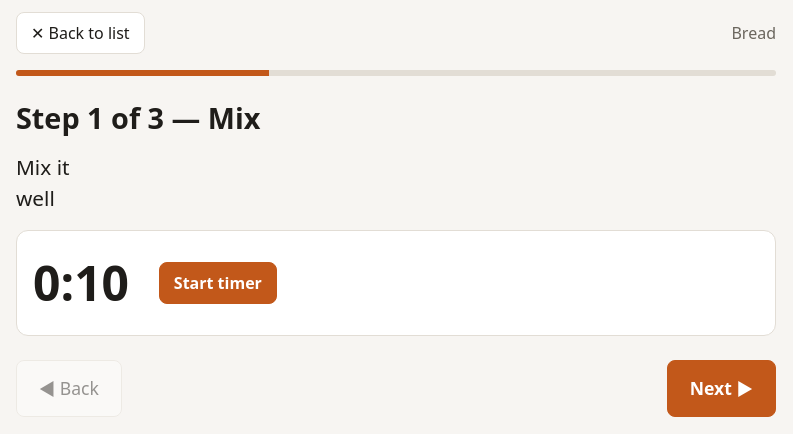
Test case: Next stops current timer and auto-starts next
Click the button "Start timer" at (218, 283), box [159,262,277,304]
Wait 3000 ms
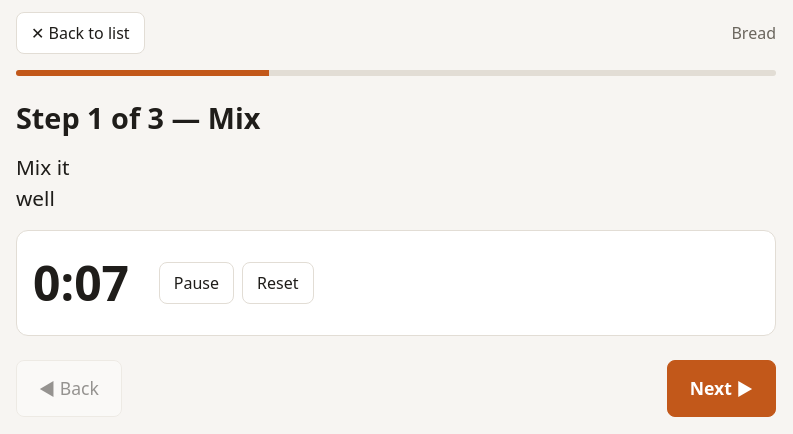
Click the button "Next ▶" at (721, 389), box [667,360,776,417]
Wait 11000 ms
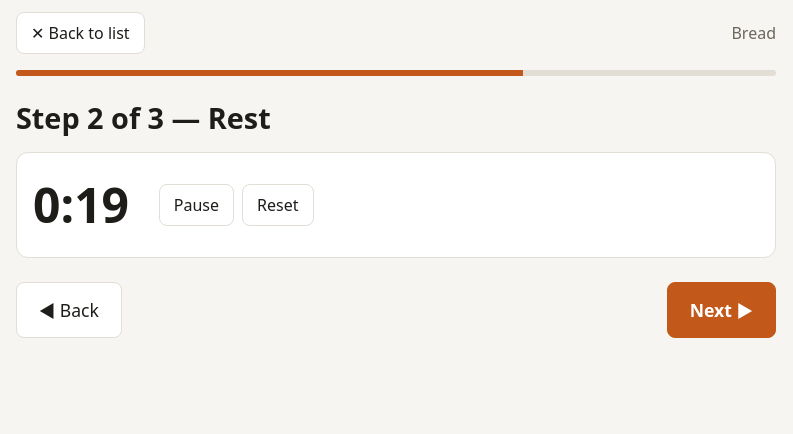
Check: the heading reads "Step 2 of 3 — Rest", box [16,98,271,137]
